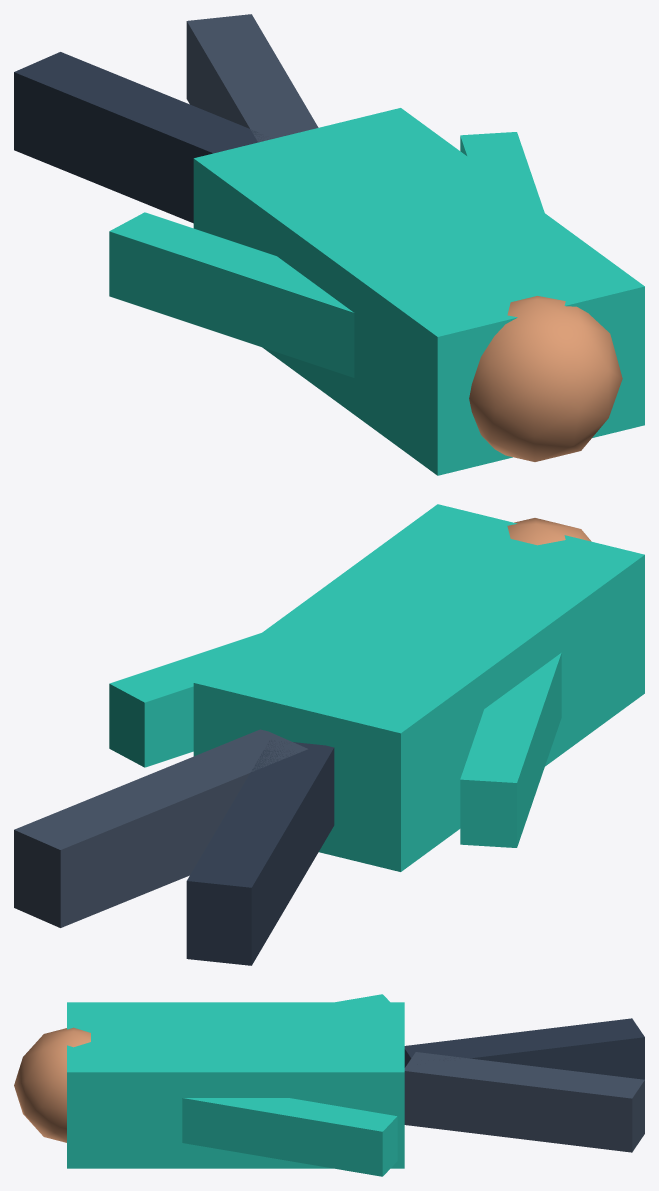
File: person.walking.glb
The picture shows the model from 3 angles, top to bottom: view 1: azimuth 30°, elevation 25°; view 2: azimuth 150°, elevation 25°; view 3: azimuth 270°, elevation 25°; orthographic projection. The views are drawn at different scales.
Parts seen in each view (by area): view 1: person.walking; view 2: person.walking; view 3: person.walking.
Boxes of the visible parts, x1,y1,x2,y2 form: person.walking: [14, 14, 644, 475]; person.walking: [14, 504, 644, 965]; person.walking: [14, 994, 644, 1176].
Bounding box in the file's own units: 0.9837 × 0.36 × 1.91.
